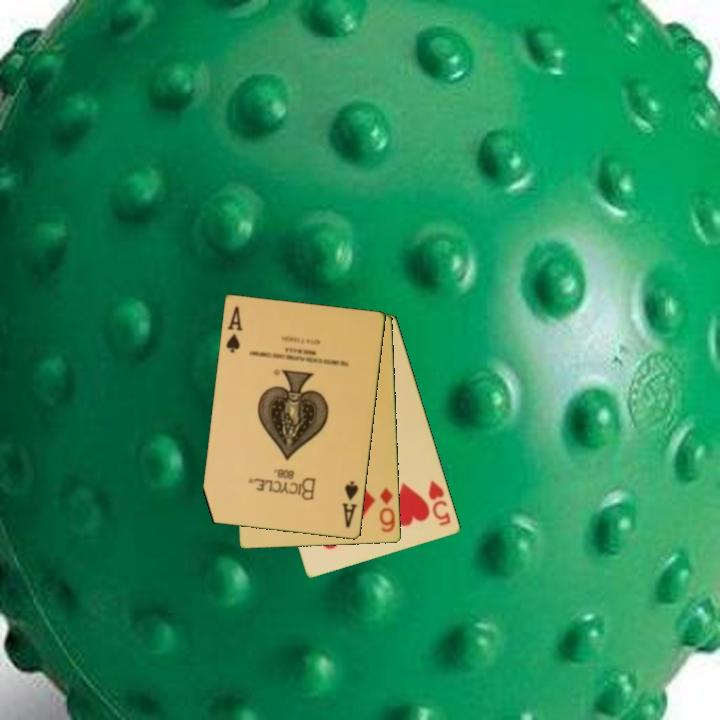5h: (425, 477, 454, 529)
6d: (376, 484, 398, 536)
As: (339, 478, 362, 531), (223, 303, 246, 356)
